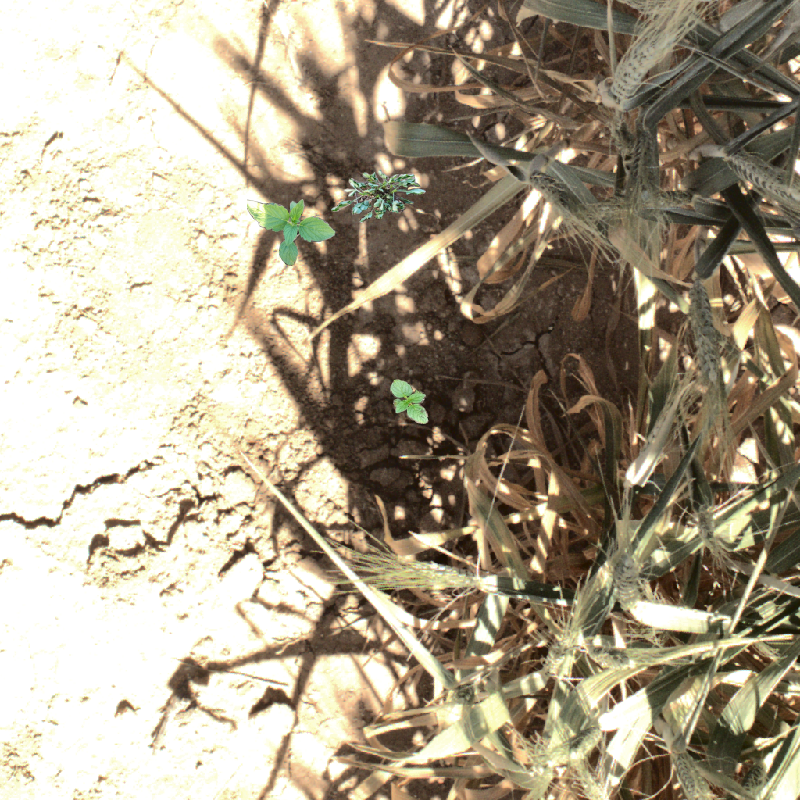spikelet: (597, 519, 686, 591), (682, 279, 731, 397), (606, 27, 672, 106), (523, 171, 603, 236), (722, 148, 799, 213), (341, 166, 419, 222), (355, 559, 484, 592), (627, 595, 723, 635), (555, 719, 604, 780), (577, 642, 676, 671), (667, 747, 721, 800), (621, 186, 699, 216)
weed: (247, 199, 336, 266), (331, 169, 426, 223), (390, 379, 429, 424)
